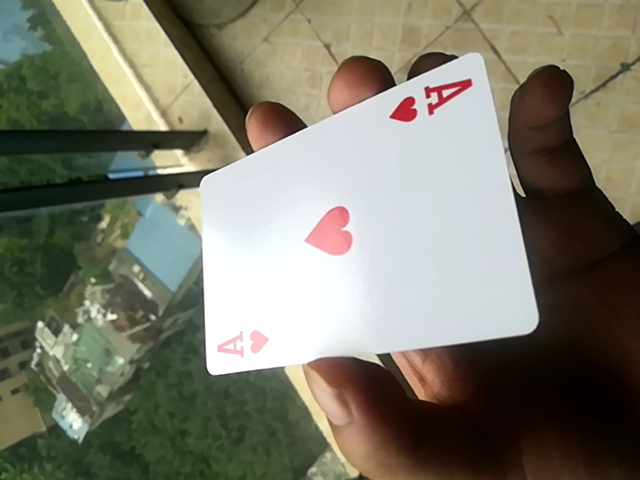hx a: (194, 55, 540, 382)
